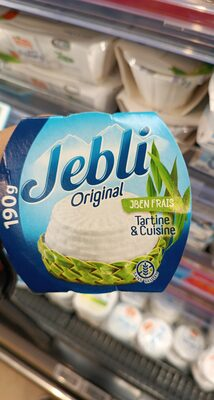Jebli: (11, 20, 203, 380)
